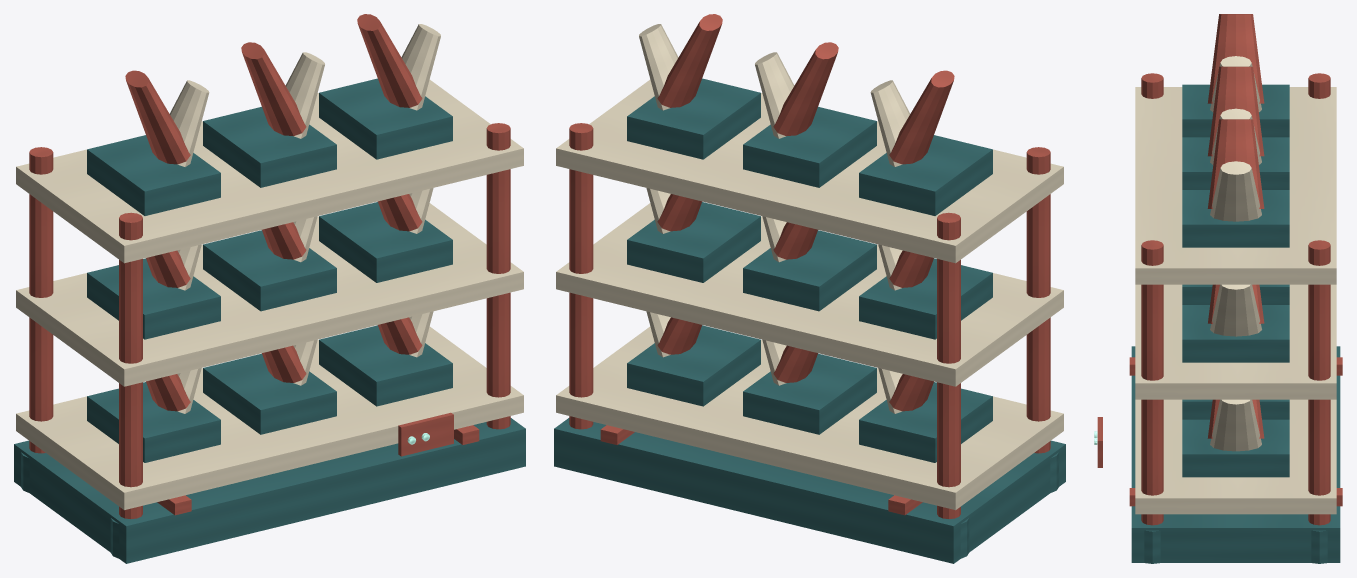
Rendered from atlas100-s037-a02.glb.
The picture shows the model from 3 angles, left to right: view 1: azimuth 30°, elevation 25°; view 2: azimuth 150°, elevation 25°; view 3: azimuth 270°, elevation 25°; orthographic projection. The views are drawn at different scales.
Parts seen in each view (by area): view 1: atlas100-s037-a02:part-031, atlas100-s037-a02:part-021, atlas100-s037-a02:part-000, atlas100-s037-a02:part-011, atlas100-s037-a02:part-018, atlas100-s037-a02:part-038, atlas100-s037-a02:part-035, atlas100-s037-a02:part-015, atlas100-s037-a02:part-025, atlas100-s037-a02:part-028, atlas100-s037-a02:part-032, atlas100-s037-a02:part-009 (+17 smaller); view 2: atlas100-s037-a02:part-031, atlas100-s037-a02:part-000, atlas100-s037-a02:part-021, atlas100-s037-a02:part-011, atlas100-s037-a02:part-018, atlas100-s037-a02:part-038, atlas100-s037-a02:part-035, atlas100-s037-a02:part-015, atlas100-s037-a02:part-025, atlas100-s037-a02:part-028, atlas100-s037-a02:part-032, atlas100-s037-a02:part-007 (+16 smaller); view 3: atlas100-s037-a02:part-031, atlas100-s037-a02:part-011, atlas100-s037-a02:part-021, atlas100-s037-a02:part-000, atlas100-s037-a02:part-007, atlas100-s037-a02:part-009, atlas100-s037-a02:part-018, atlas100-s037-a02:part-028, atlas100-s037-a02:part-038, atlas100-s037-a02:part-032, atlas100-s037-a02:part-035, atlas100-s037-a02:part-040 (+15 smaller).
Part boxes in pixels (box(x1,y1,x2,y2)): atlas100-s037-a02:part-031: box(16, 80, 523, 263); atlas100-s037-a02:part-021: box(16, 203, 523, 386); atlas100-s037-a02:part-000: box(14, 418, 525, 563); atlas100-s037-a02:part-011: box(16, 326, 523, 510); atlas100-s037-a02:part-018: box(319, 325, 452, 406); atlas100-s037-a02:part-038: box(319, 78, 452, 159); atlas100-s037-a02:part-035: box(203, 106, 336, 187); atlas100-s037-a02:part-015: box(203, 353, 336, 434); atlas100-s037-a02:part-025: box(203, 230, 336, 311); atlas100-s037-a02:part-028: box(319, 202, 452, 282); atlas100-s037-a02:part-032: box(87, 135, 220, 215); atlas100-s037-a02:part-009: box(486, 123, 510, 429); atlas100-s037-a02:part-031: box(556, 80, 1063, 263); atlas100-s037-a02:part-000: box(554, 418, 1065, 563); atlas100-s037-a02:part-021: box(556, 203, 1063, 386); atlas100-s037-a02:part-011: box(556, 326, 1063, 510); atlas100-s037-a02:part-018: box(627, 325, 760, 406); atlas100-s037-a02:part-038: box(627, 78, 760, 159); atlas100-s037-a02:part-035: box(743, 106, 876, 187); atlas100-s037-a02:part-015: box(743, 353, 876, 434); atlas100-s037-a02:part-025: box(743, 230, 876, 311); atlas100-s037-a02:part-028: box(627, 202, 760, 282); atlas100-s037-a02:part-032: box(859, 135, 992, 215); atlas100-s037-a02:part-007: box(569, 123, 593, 429); atlas100-s037-a02:part-031: box(1135, 87, 1336, 284); atlas100-s037-a02:part-011: box(1135, 399, 1336, 514); atlas100-s037-a02:part-021: box(1135, 284, 1336, 399); atlas100-s037-a02:part-000: box(1131, 346, 1340, 562); atlas100-s037-a02:part-007: box(1308, 240, 1330, 525); atlas100-s037-a02:part-009: box(1141, 240, 1163, 525); atlas100-s037-a02:part-018: box(1182, 419, 1289, 477); atlas100-s037-a02:part-028: box(1182, 305, 1289, 362); atlas100-s037-a02:part-038: box(1182, 190, 1289, 247); atlas100-s037-a02:part-032: box(1182, 84, 1289, 137); atlas100-s037-a02:part-035: box(1182, 137, 1289, 189); atlas100-s037-a02:part-040: box(1210, 161, 1261, 221).
Size of the model in its own units: 2.91 by 2.97 by 1.66.
Materials: 4 (4 with a texture image).
